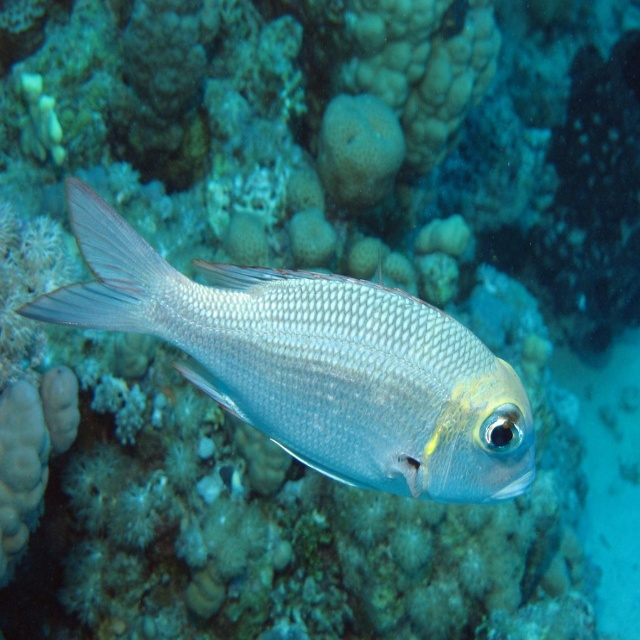Fish: (9, 167, 539, 487)
